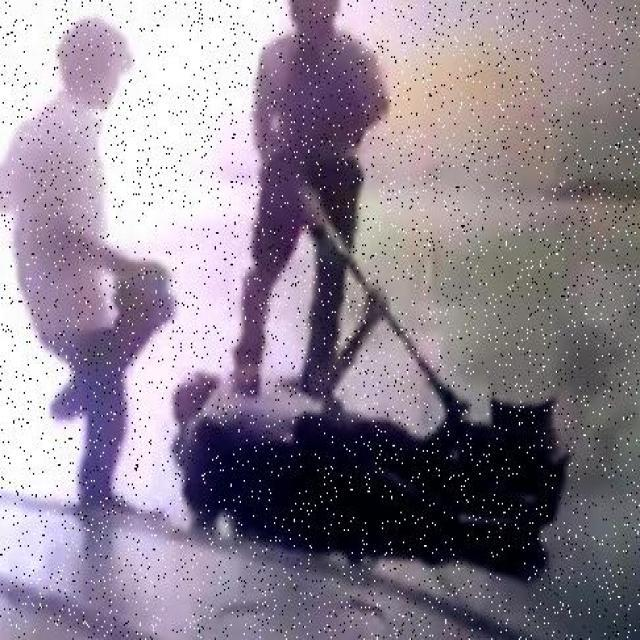fall: (167, 360, 445, 492)
